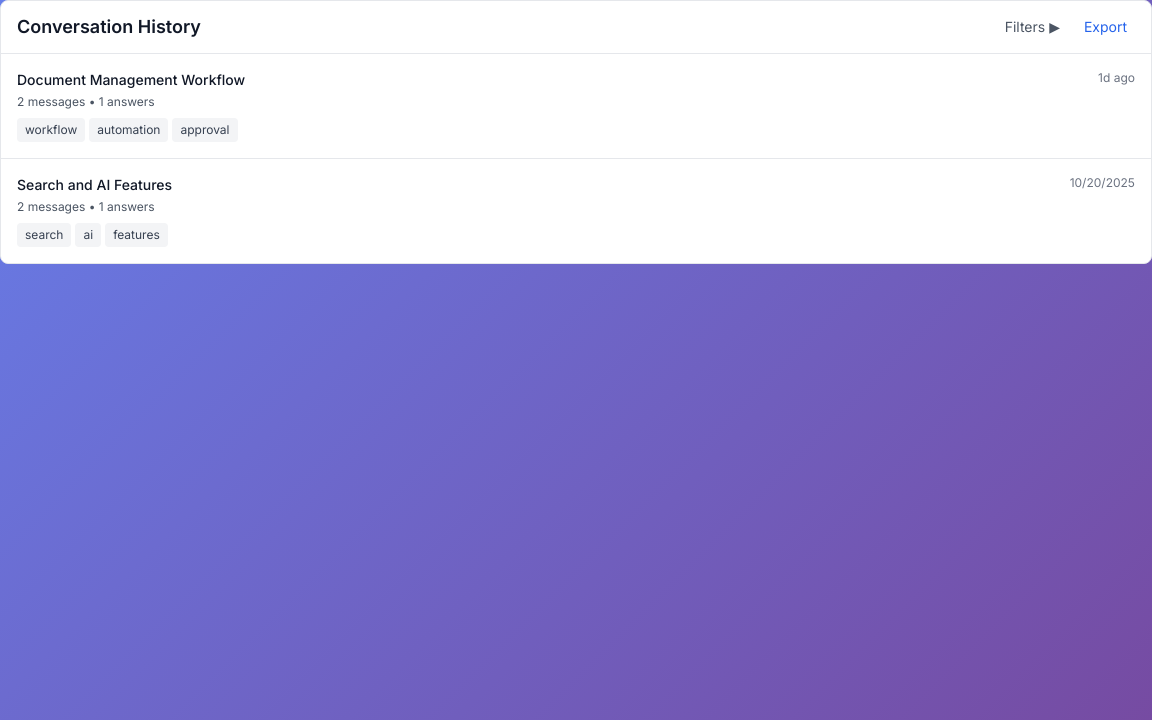
it: ConversationHistoryManager › expands conversation to show messages when selected
This screenshot has width=1152, height=720.
Click the text "Document Management Workflow": click(131, 106) [17, 71, 245, 142]
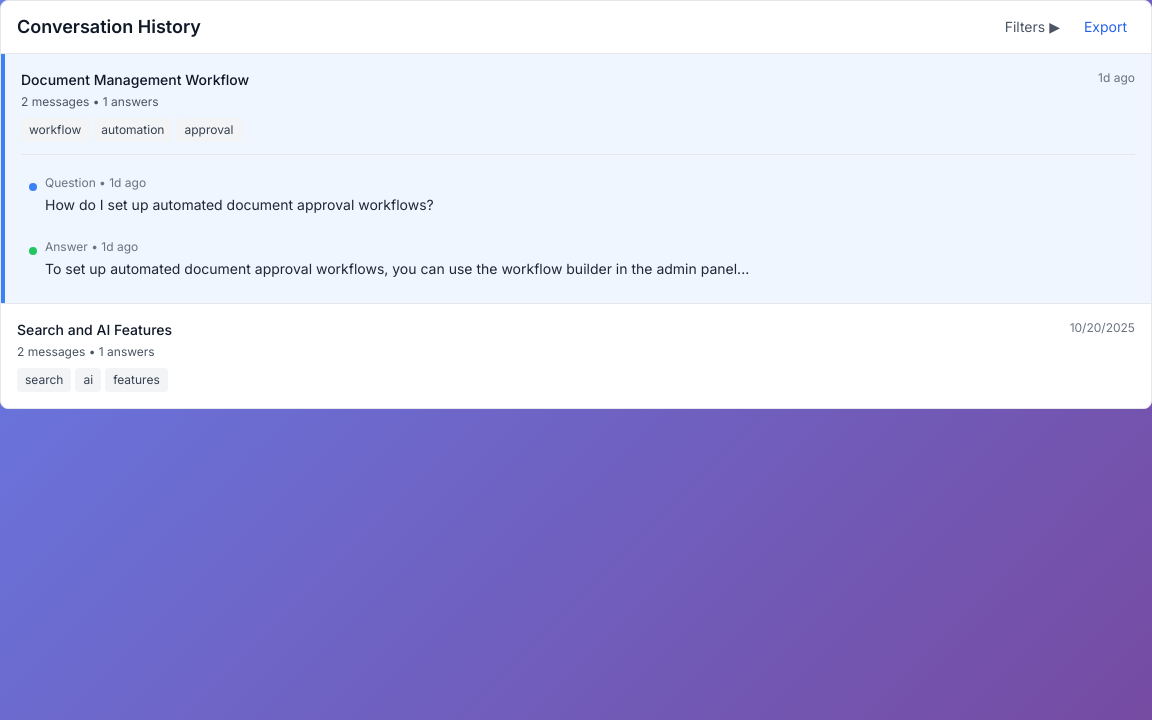
Expected: the text "How do I set up automated document approval workflows?" is shown, [45, 196, 434, 213]
Expected: the text "To set up automated document approval workflows" is shown, [45, 260, 749, 277]
